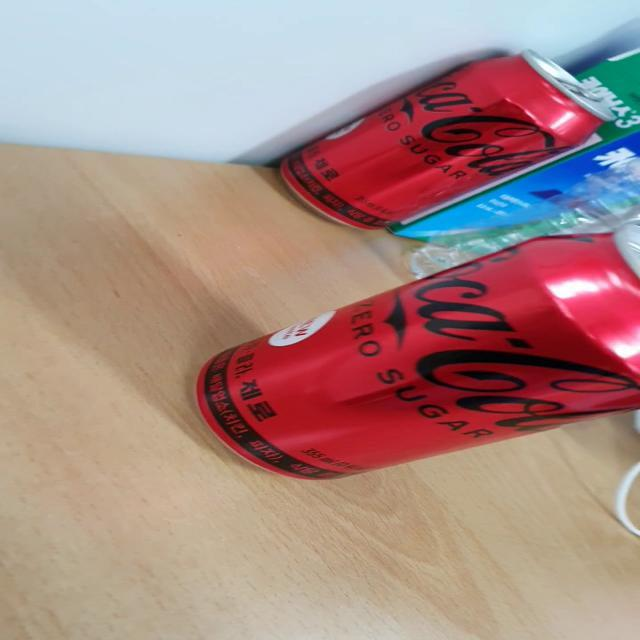coca-cola: (191, 223, 640, 491), (266, 32, 618, 236)
